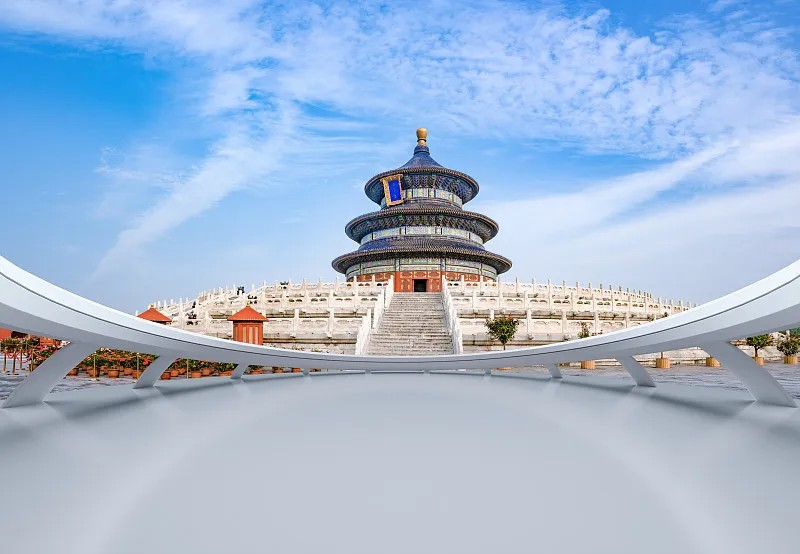Heaven: (330, 127, 513, 293)
